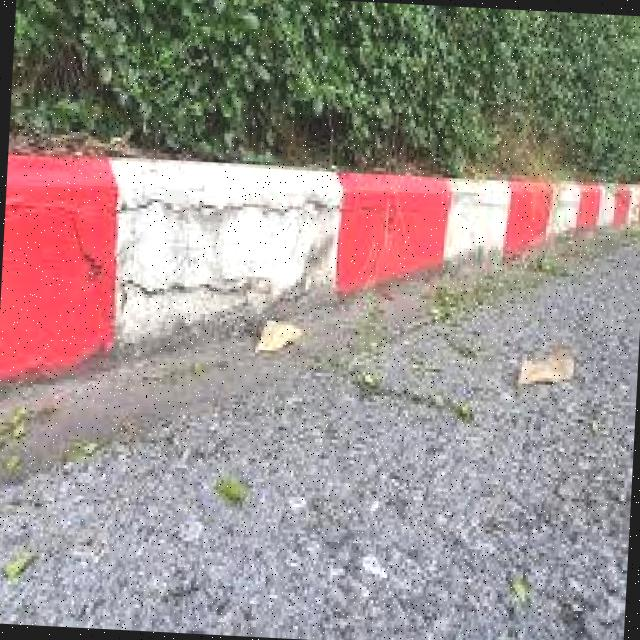curb: (1, 142, 389, 392), (404, 154, 637, 270)
